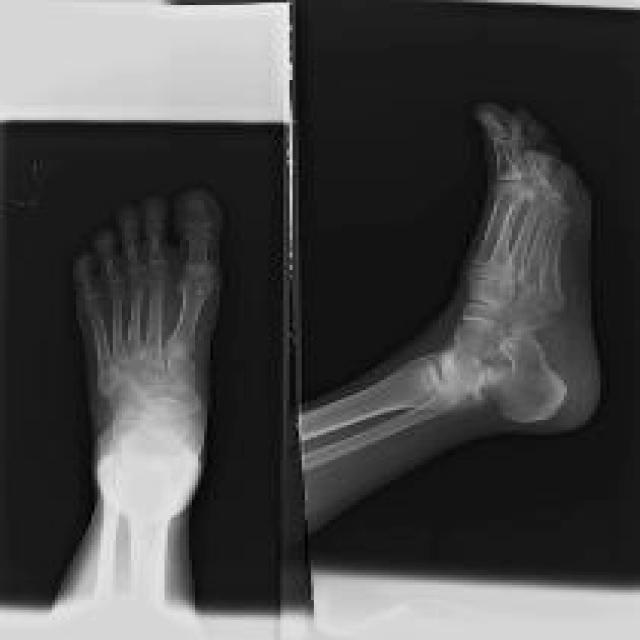normal: (303, 108, 570, 459), (75, 190, 218, 599)
